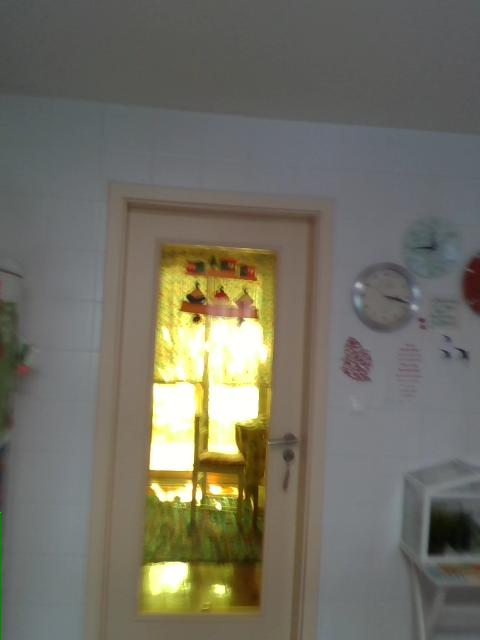door: (110, 203, 311, 639)
